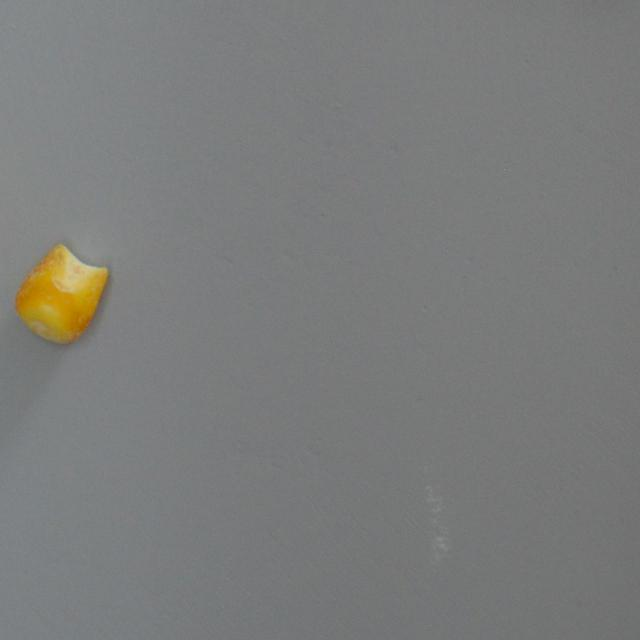dañado: (11, 238, 110, 349)
